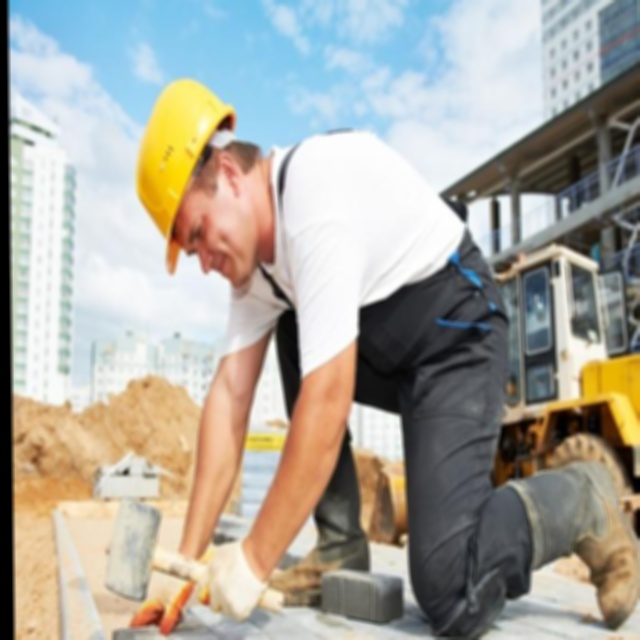Con_Casco: (139, 78, 269, 285)
